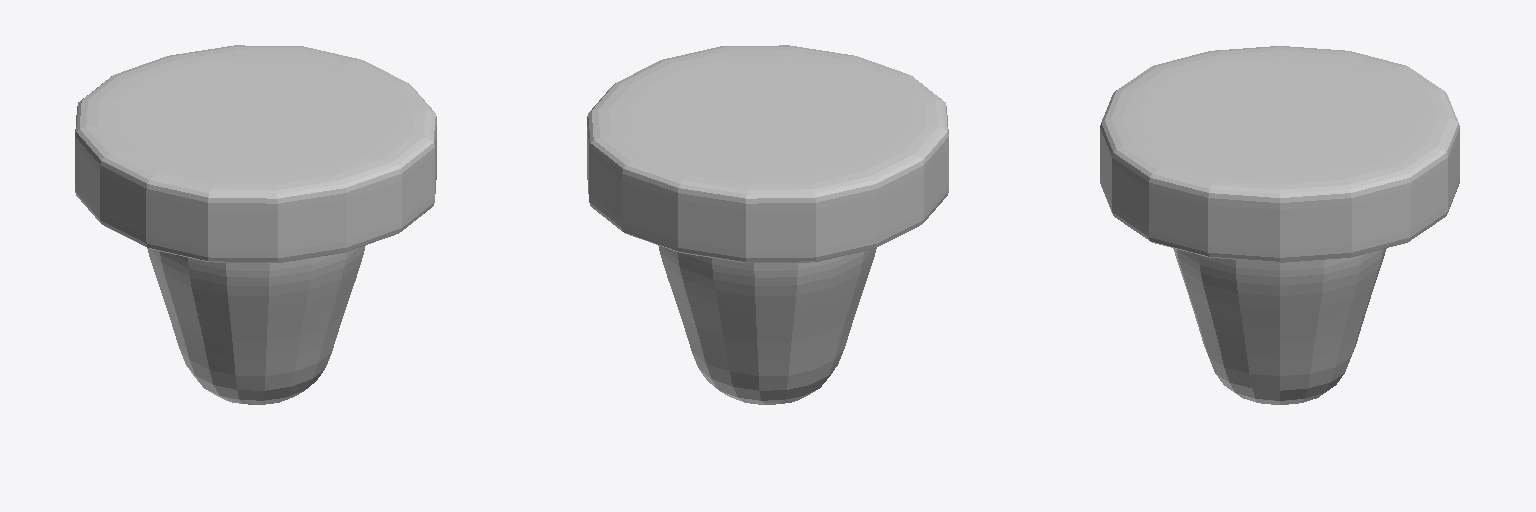
Rendered from SetA_PotionBottleLid_Style_05(01).obj.
3 renders of one model, left to right at view 1: azimuth 30°, elevation 25°; view 2: azimuth 150°, elevation 25°; view 3: azimuth 270°, elevation 25°, orthographic.
Visible parts, largest first — view 1: SetA_PotionBottleLid_Style_05(01); view 2: SetA_PotionBottleLid_Style_05(01); view 3: SetA_PotionBottleLid_Style_05(01).
Boxes of the visible parts, <box> form: SetA_PotionBottleLid_Style_05(01): <box>75,45,436,404</box>; SetA_PotionBottleLid_Style_05(01): <box>587,45,948,404</box>; SetA_PotionBottleLid_Style_05(01): <box>1100,46,1459,404</box>.
Bounding box in the file's own units: 0.024 × 0.0204 × 0.024.